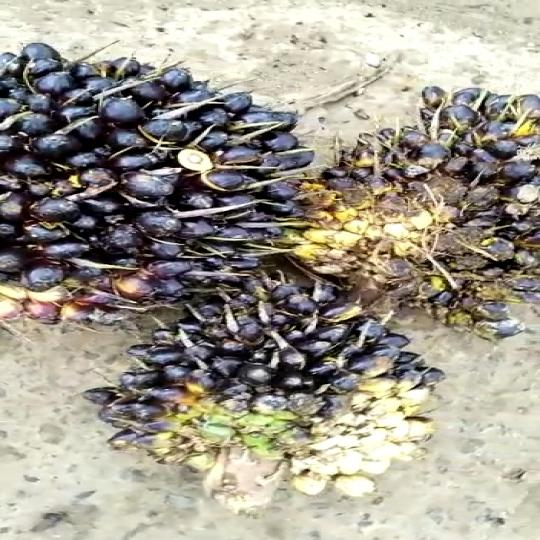mentah: (0, 39, 322, 326), (92, 277, 468, 519), (330, 71, 540, 346)
